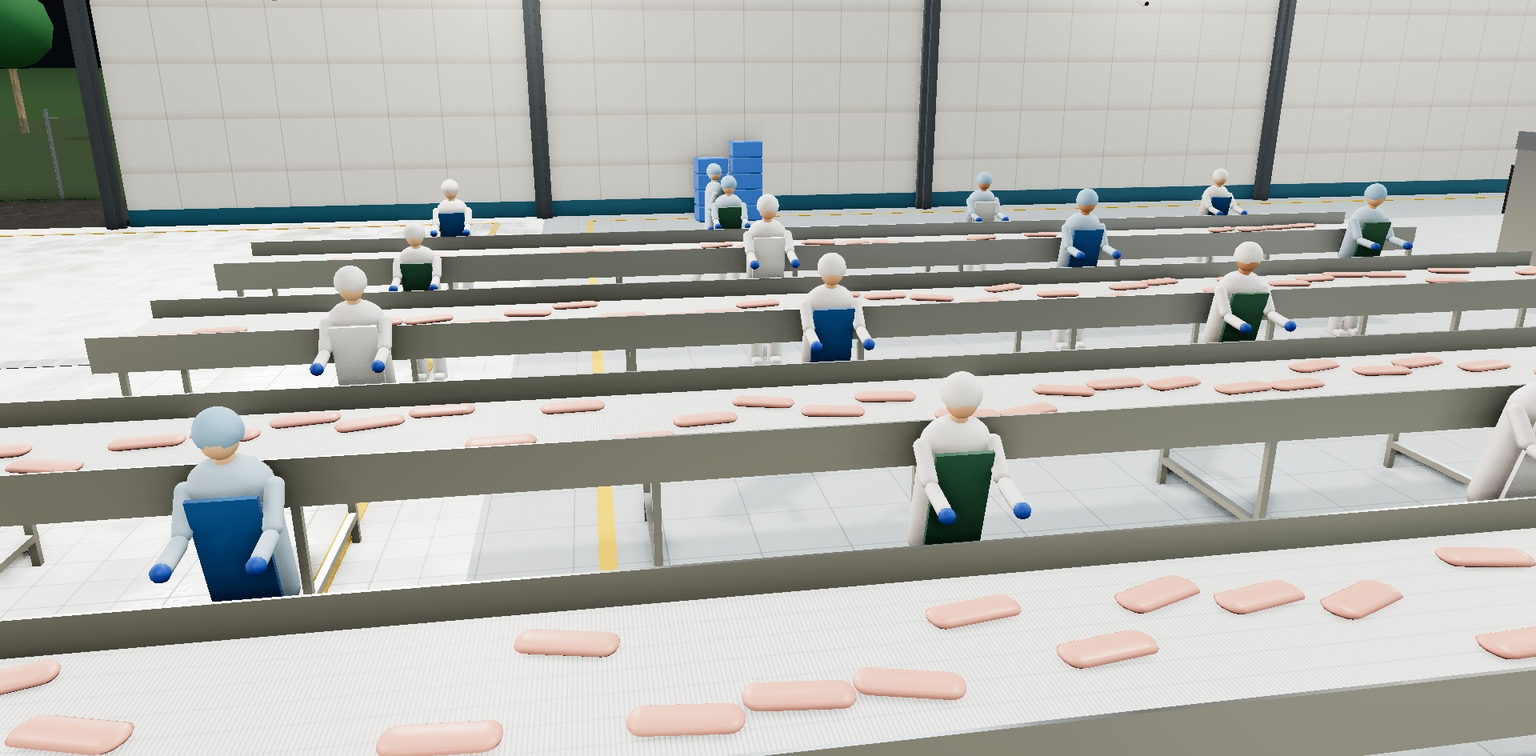apron: (182, 478, 297, 679), (916, 436, 996, 614), (1477, 402, 1536, 562), (328, 318, 396, 453), (1204, 287, 1270, 402), (806, 301, 855, 425), (1338, 219, 1392, 305), (1058, 226, 1104, 317), (400, 259, 442, 350), (750, 233, 786, 331), (438, 210, 472, 285), (1196, 195, 1232, 259), (966, 199, 997, 267), (716, 204, 742, 275), (720, 189, 729, 257)
glove: (144, 558, 177, 590), (241, 551, 271, 582), (1010, 497, 1035, 525), (935, 502, 959, 531), (307, 360, 326, 379), (369, 357, 387, 376), (1236, 321, 1255, 336), (1281, 319, 1300, 334), (862, 336, 877, 353), (810, 338, 824, 356), (1400, 240, 1416, 251), (1074, 250, 1087, 262), (749, 258, 760, 272), (1368, 242, 1383, 252), (1110, 249, 1123, 260), (790, 257, 801, 270), (388, 284, 399, 296), (428, 282, 439, 294), (1239, 209, 1250, 218), (429, 229, 438, 238), (723, 217, 732, 226), (1215, 210, 1225, 218), (975, 216, 983, 225), (1001, 216, 1010, 224), (714, 222, 722, 231), (462, 228, 470, 237), (707, 225, 715, 233), (744, 222, 751, 230)
hairnet: (177, 394, 253, 455), (934, 361, 993, 413), (327, 259, 371, 295), (1227, 236, 1273, 266), (814, 247, 851, 280), (1358, 180, 1396, 201), (1072, 185, 1104, 207), (400, 218, 427, 242), (755, 190, 781, 214), (1524, 334, 1536, 380), (439, 176, 460, 195), (1209, 166, 1234, 181), (974, 169, 996, 185), (719, 173, 738, 190), (705, 162, 723, 175)
person: (116, 377, 336, 756), (887, 348, 1046, 722), (1423, 323, 1536, 653), (294, 252, 418, 527), (1174, 231, 1313, 463), (790, 241, 880, 494), (1311, 177, 1427, 349), (1038, 182, 1130, 364), (380, 215, 457, 398), (738, 187, 802, 382), (1179, 164, 1256, 291), (424, 174, 483, 323), (953, 167, 1014, 301), (686, 161, 736, 290), (707, 171, 752, 311), (1514, 222, 1536, 438)
